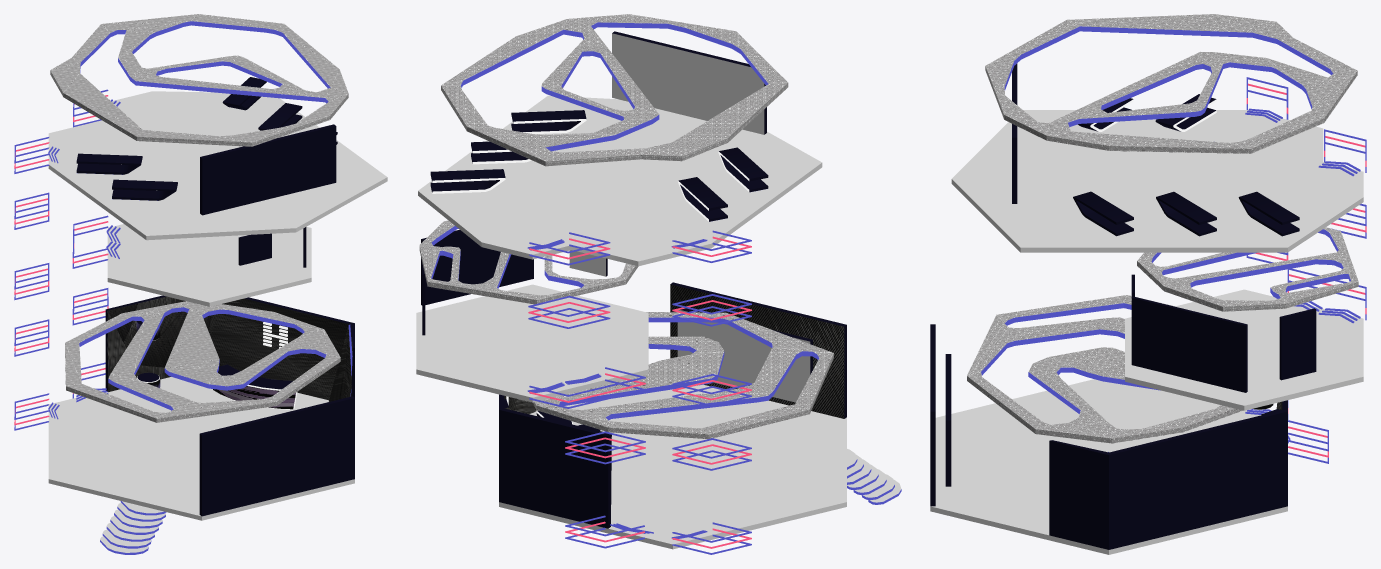
The model's file is hww_base_10_alternateV9.glb.
3 views of the same model, side by side, from view 1: azimuth 30°, elevation 25°; view 2: azimuth 150°, elevation 25°; view 3: azimuth 270°, elevation 25° (orthographic). The views are drawn at different scales.
Parts seen in each view (by area): view 1: lobby_base, ceiling, walls_back, walls_front, screen_frames, lobby_cove_lights, props_surface, lift_neon_purple, lift_neon_pink, steps_neon_purple, props_table, lift_ramp_lights; view 2: lobby_base, ceiling, walls_back, expo_video_display, lift_neon_purple, lobby_cove_lights, props_surface, walls_front, screen_frames, lobby_video_display, lift_neon_pink, expo_table_glowy (+2 smaller); view 3: lobby_base, ceiling, walls_back, screen_frames, lobby_cove_lights, props_surface, lift_neon_purple, lift_ramp_lights, lift_neon_pink.
Part boxes in pixels (<box>): lobby_base: <box>48,91,387,552</box>; ceiling: <box>50,14,348,422</box>; walls_back: <box>105,295,354,516</box>; walls_front: <box>107,296,352,401</box>; screen_frames: <box>200,124,336,267</box>; lobby_cove_lights: <box>77,21,352,410</box>; props_surface: <box>76,77,337,389</box>; lift_neon_purple: <box>14,89,108,430</box>; lift_neon_pink: <box>14,95,108,425</box>; steps_neon_purple: <box>100,501,166,554</box>; props_table: <box>213,386,295,409</box>; lift_ramp_lights: <box>48,99,120,419</box>; lobby_base: <box>416,95,901,549</box>; ceiling: <box>419,14,833,439</box>; walls_back: <box>499,282,846,528</box>; expo_video_display: <box>612,33,764,134</box>; lift_neon_purple: <box>528,230,751,554</box>; lobby_cove_lights: <box>431,22,819,420</box>; props_surface: <box>430,110,768,430</box>; walls_front: <box>504,284,844,418</box>; screen_frames: <box>421,31,812,374</box>; lobby_video_display: <box>677,310,810,402</box>; lift_neon_pink: <box>528,236,751,548</box>; expo_table_glowy: <box>432,119,749,221</box>; lobby_base: <box>930,110,1363,554</box>; ceiling: <box>967,14,1358,443</box>; walls_back: <box>930,324,1287,549</box>; screen_frames: <box>945,63,1316,486</box>; lobby_cove_lights: <box>981,26,1350,452</box>; props_surface: <box>1073,94,1299,236</box>; lift_neon_purple: <box>1246,77,1366,463</box>; lift_ramp_lights: <box>1245,108,1360,443</box>; lift_neon_pink: <box>1246,83,1366,457</box>.
Size of what is drawn, in the model's own units: 15.71 by 17.47 by 15.86.
Materials: 7 (3 with a texture image).
